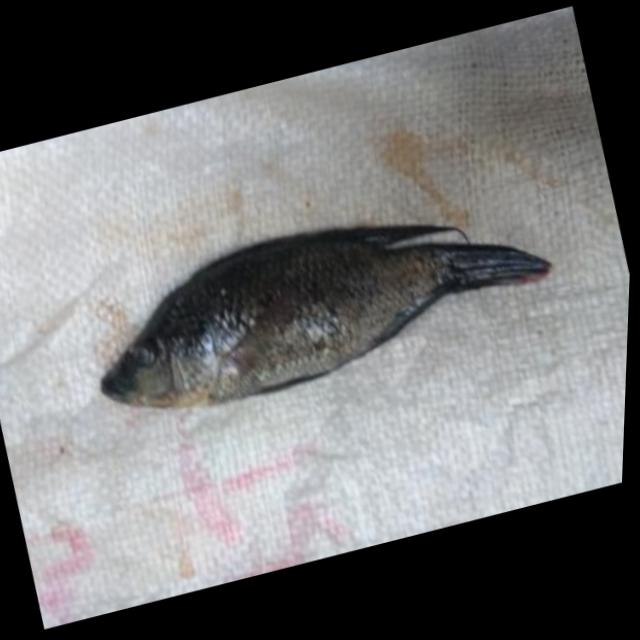Tilapia: (71, 173, 571, 437)
